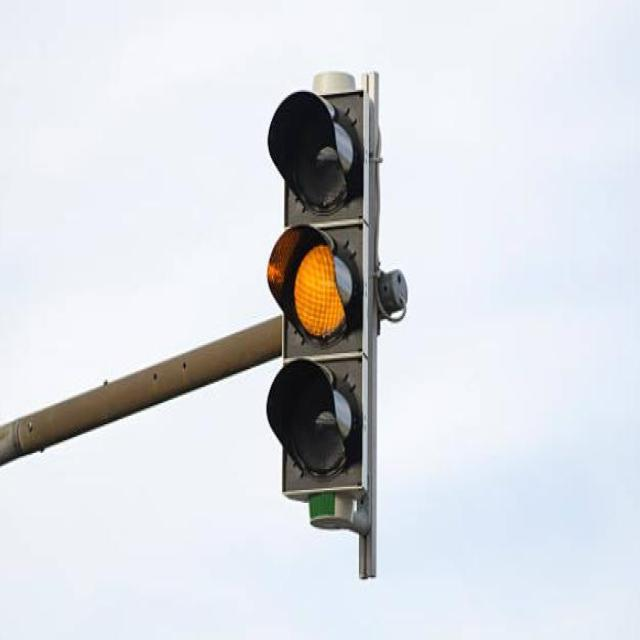yellow_light: (266, 73, 381, 501)
